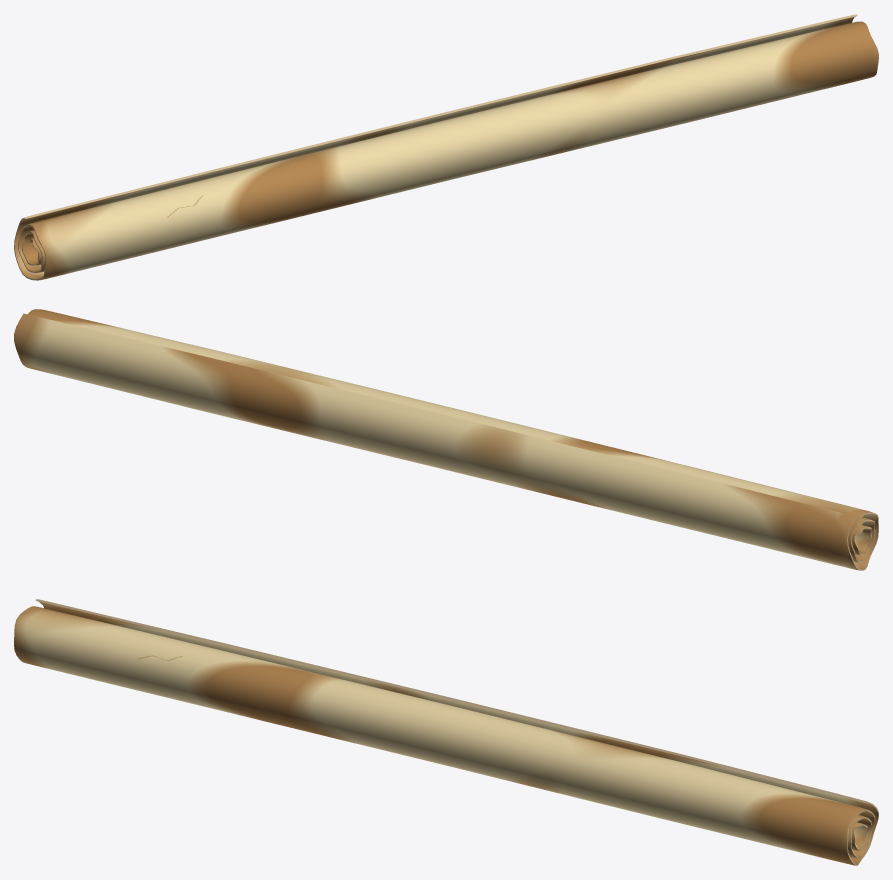
File: chart_roll_01.glb
The picture shows the model from 3 angles, top to bottom: view 1: azimuth 30°, elevation 25°; view 2: azimuth 150°, elevation 25°; view 3: azimuth 330°, elevation 25°; orthographic projection.
Parts seen in each view (by area): view 1: ChartRoll01; view 2: ChartRoll01; view 3: ChartRoll01.
Boxes of the visible parts, <box> form: ChartRoll01: <box>14,14,878,280</box>; ChartRoll01: <box>14,309,878,570</box>; ChartRoll01: <box>14,599,878,865</box>.
Bounding box in the file's own units: 0.6 × 0.04 × 0.04.
2 materials, 1 textured.
